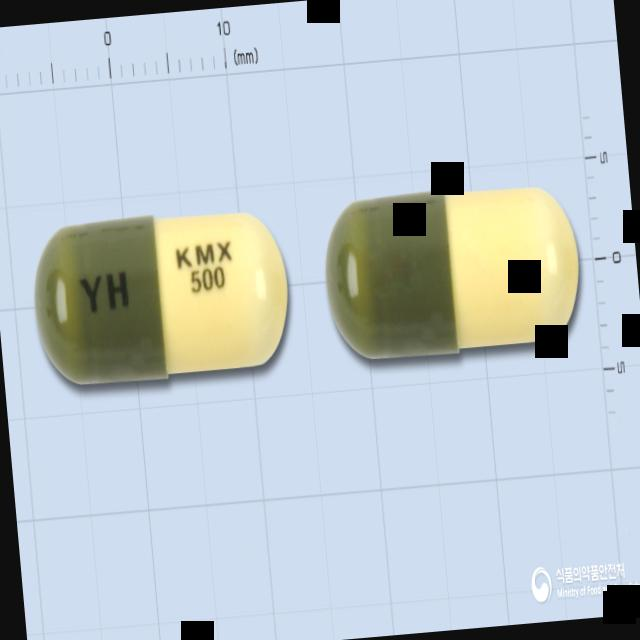Kymoxin Cap-500mg: (28, 204, 294, 390)
